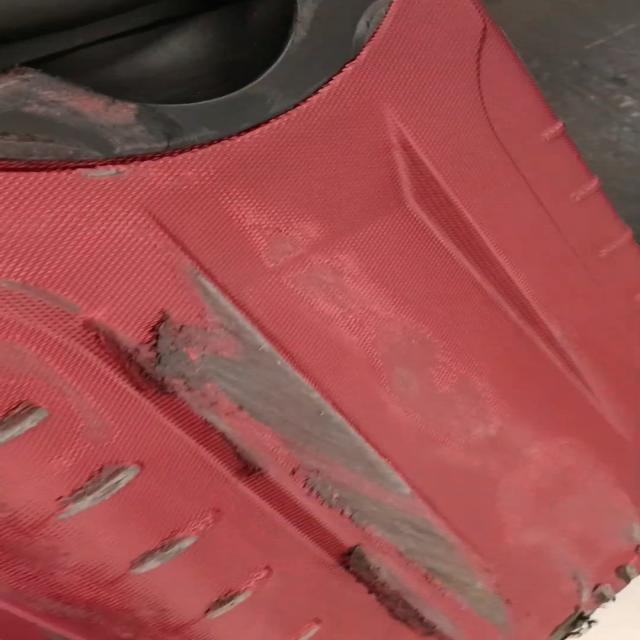Damage-bag: (127, 271, 509, 640), (129, 510, 218, 575), (58, 464, 140, 519), (547, 584, 616, 639), (202, 568, 271, 620), (0, 402, 47, 442)
